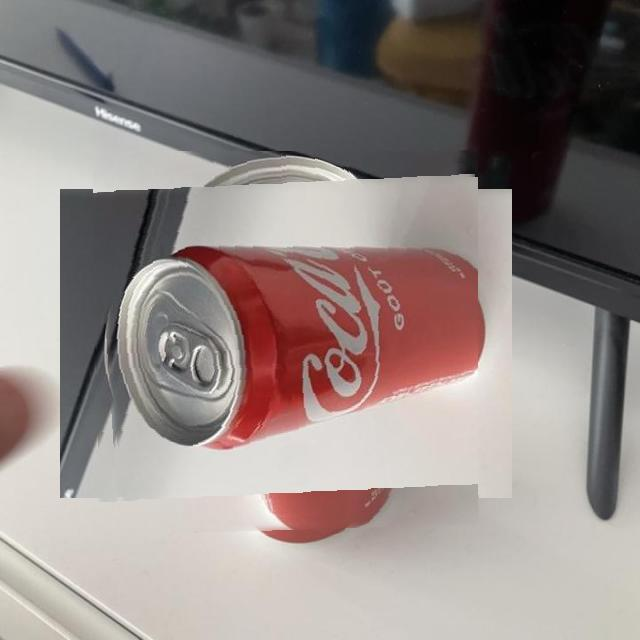recyclable: (94, 152, 478, 536)
